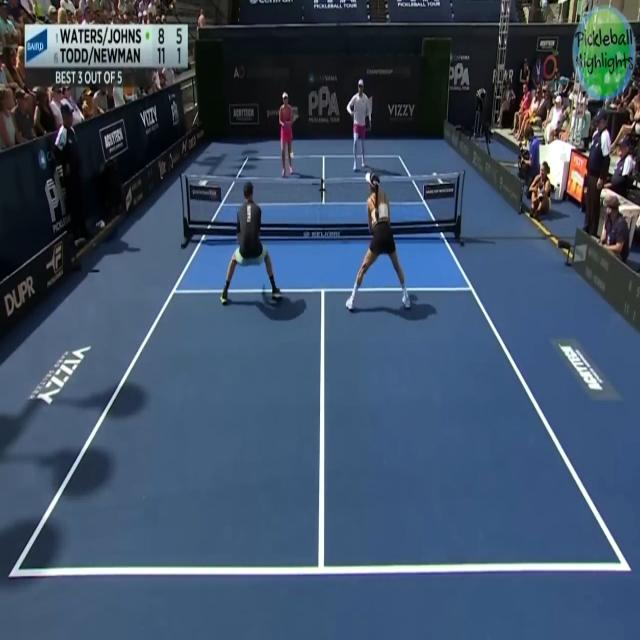Pickleball: (288, 148, 294, 159)
